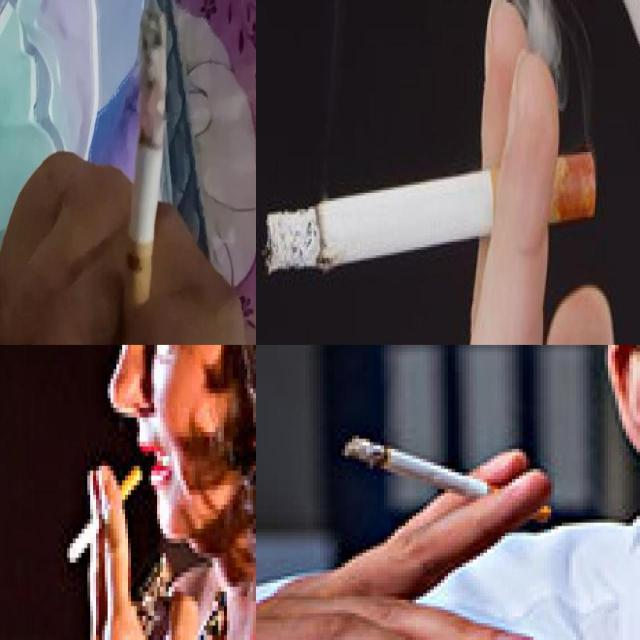smoking: (261, 149, 595, 275), (119, 9, 169, 344), (338, 428, 490, 496), (66, 464, 144, 566)
